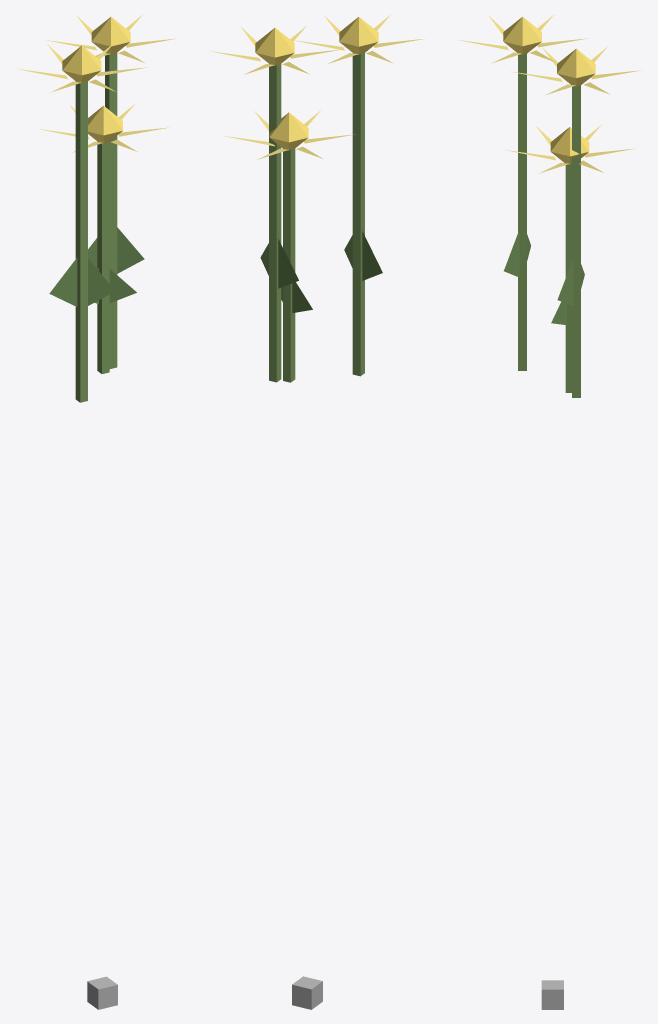
Rendered from rv_flower_yellow.gltf.
3 views of the same model, side by side, from view 1: azimuth 30°, elevation 25°; view 2: azimuth 150°, elevation 25°; view 3: azimuth 270°, elevation 25° (orthographic).
Visible parts, largest first — view 1: RV_FlowerYellow; view 2: RV_FlowerYellow; view 3: RV_FlowerYellow.
Boxes of the visible parts, bbox=[...] form: RV_FlowerYellow: bbox=[17, 15, 175, 1009]; RV_FlowerYellow: bbox=[209, 15, 424, 1009]; RV_FlowerYellow: bbox=[458, 15, 640, 1009].
Bounding box in the file's own units: 0.1628 × 0.9573 × 0.168.
